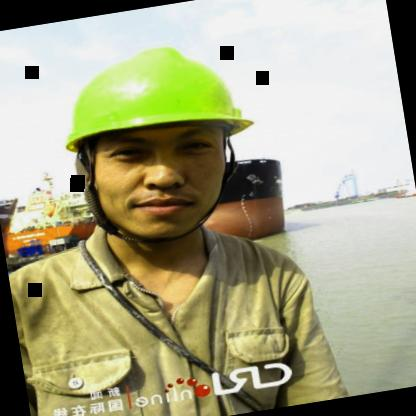helmet: (20, 11, 294, 266)
